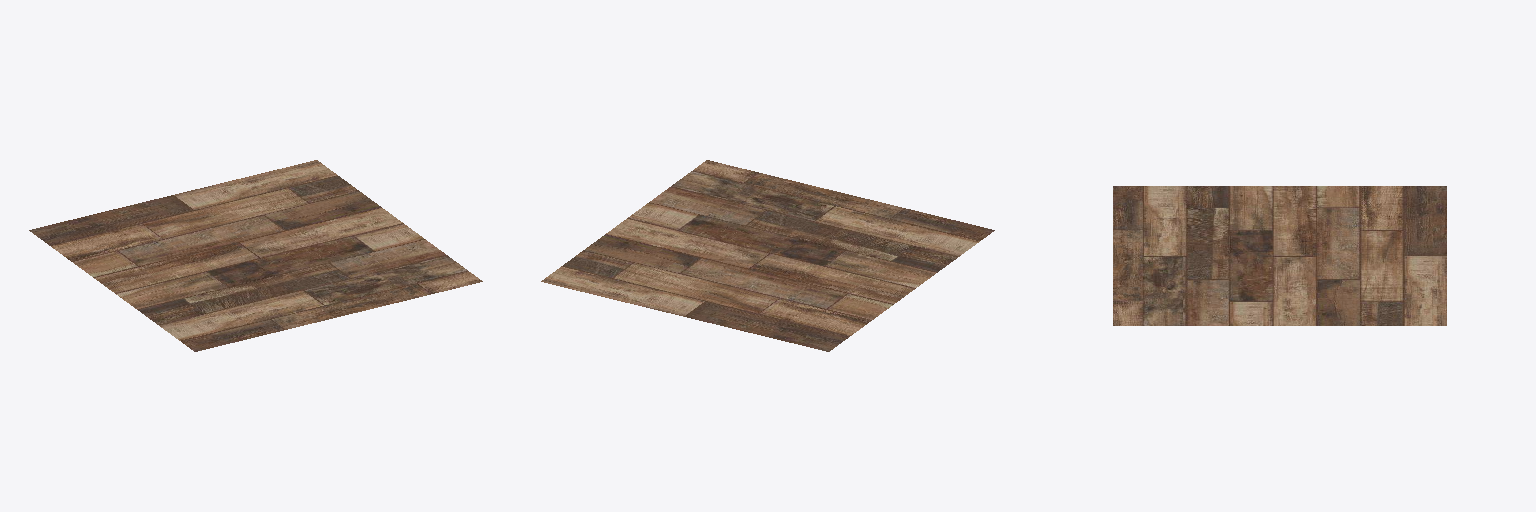
3 views of the same model, side by side, from view 1: azimuth 30°, elevation 25°; view 2: azimuth 150°, elevation 25°; view 3: azimuth 270°, elevation 25° (orthographic).
Visible parts, largest first — view 1: ground; view 2: ground; view 3: ground.
Boxes of the visible parts, x1,y1,x2,y2 form: ground: [29, 160, 482, 351]; ground: [541, 160, 994, 351]; ground: [1113, 186, 1446, 325].
Size of the model in its own units: 1 by 0 by 1.
1 materials, 1 textured.